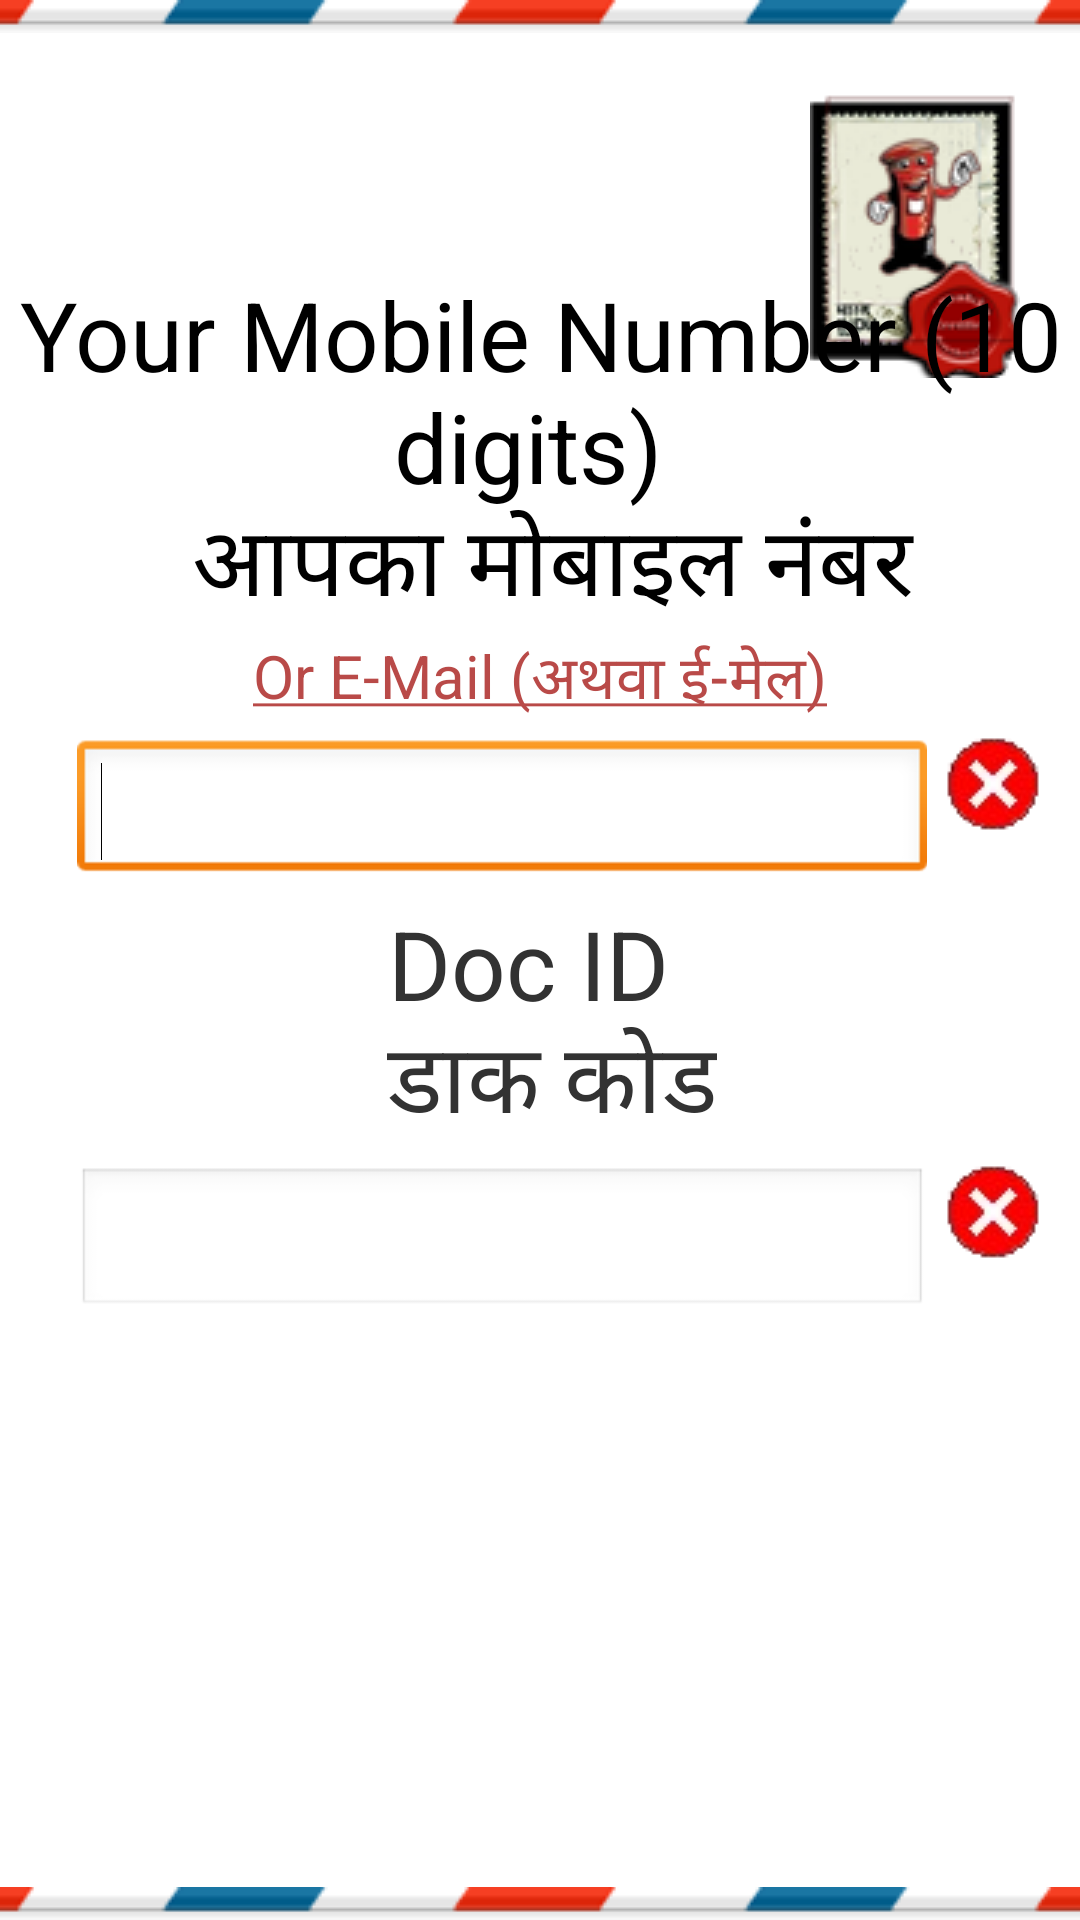

Icons on this 1080*1920 Android screen, each with the point to tap as point (x, y):
error: point (993, 784), point (993, 1212)
